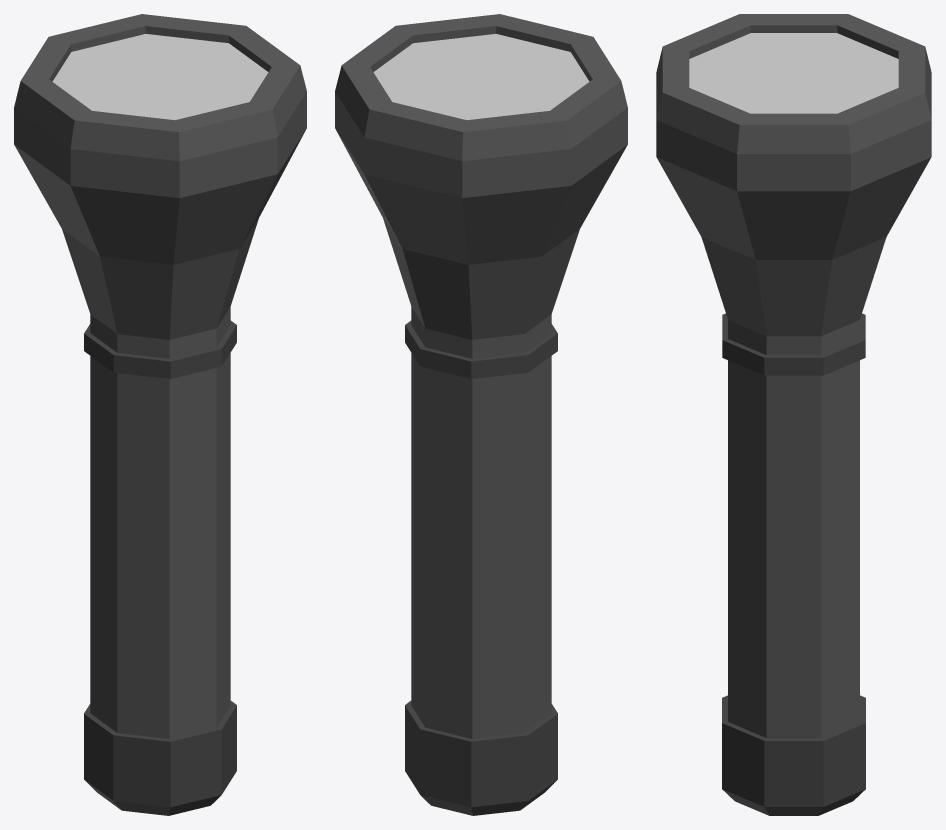
Rendered from Flashlight_01.fbx.
The picture shows the model from 3 angles, left to right: view 1: azimuth 30°, elevation 25°; view 2: azimuth 150°, elevation 25°; view 3: azimuth 270°, elevation 25°; orthographic projection.
Parts seen in each view (by area): view 1: Flashlight_01; view 2: Flashlight_01; view 3: Flashlight_01.
Boxes of the visible parts, x1,y1,x2,y2 form: Flashlight_01: (14, 14, 306, 815); Flashlight_01: (335, 14, 627, 815); Flashlight_01: (656, 14, 931, 815).
Bounding box in the file's own units: 8.63 × 24.99 × 8.63.
